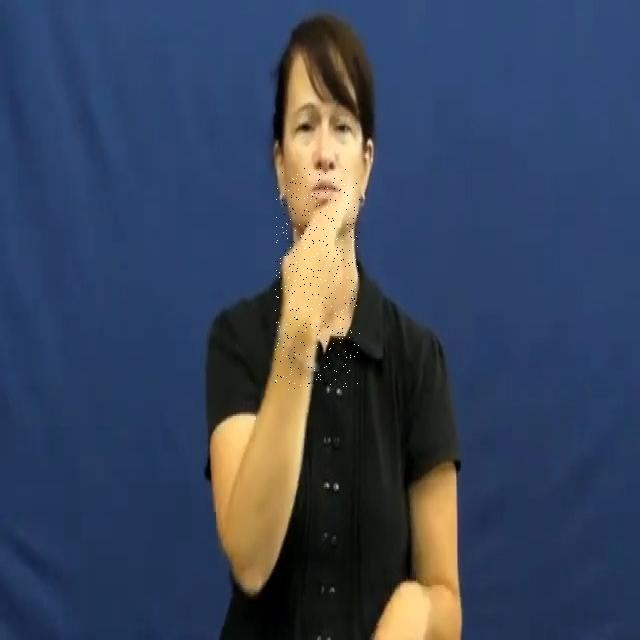menu: (275, 168, 360, 390)
